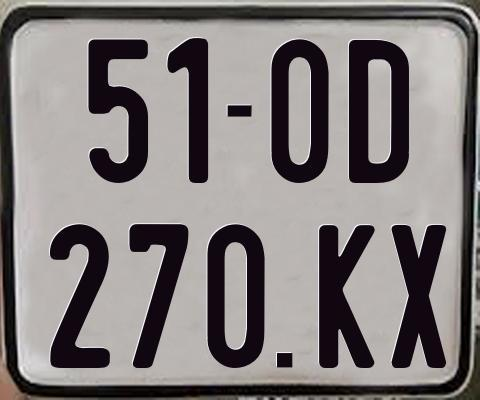0: (206, 223, 270, 371), (271, 37, 333, 182)
1: (165, 37, 212, 183)
2: (50, 224, 116, 371)
5: (86, 39, 151, 187)
7: (127, 222, 190, 367)
D: (348, 39, 410, 186)
K: (316, 224, 373, 369)
X: (391, 223, 446, 371)
